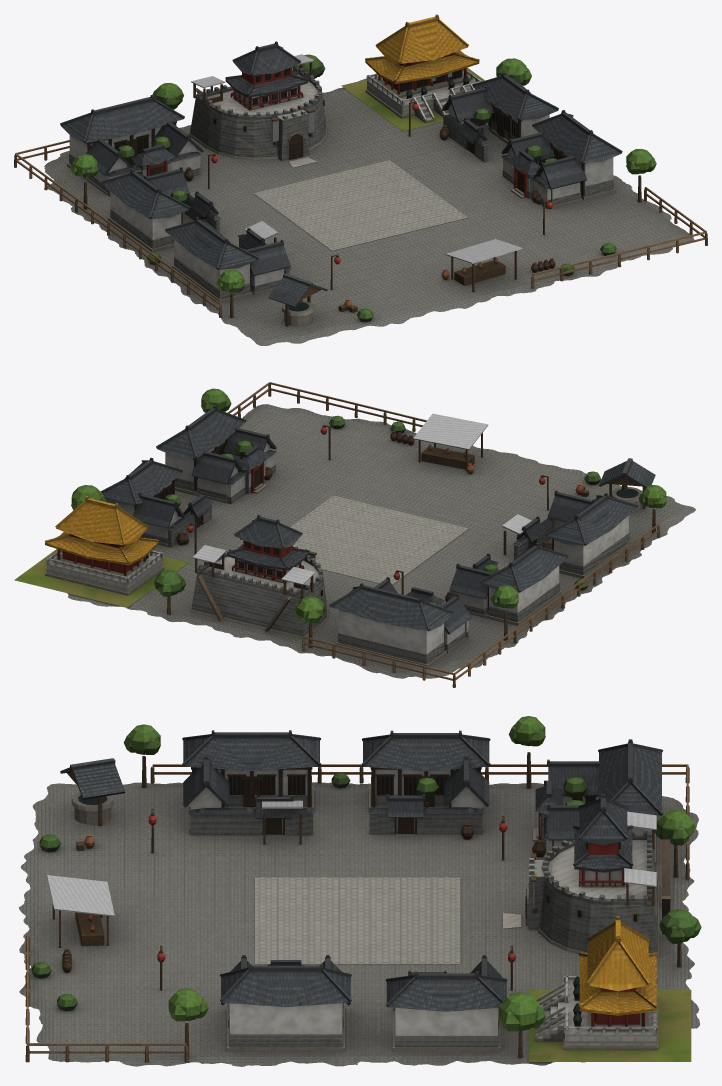
The model's file is gunpowder-town-small-b-sinic.glb.
3 views of the same model, one above another, from view 1: azimuth 30°, elevation 25°; view 2: azimuth 150°, elevation 25°; view 3: azimuth 270°, elevation 25° (orthographic). The views are drawn at different scales.
Visible parts, largest first — view 1: LOD0; view 2: LOD0; view 3: LOD0.
Part boxes in pixels (box(x1,y1,x2,y2)): LOD0: box(14, 14, 707, 345); LOD0: box(14, 382, 695, 687); LOD0: box(19, 716, 701, 1066).
Size of what is drawn, in the model's own units: 4.02 by 0.81 by 4.06.
Materials: 3 (3 with a texture image).
